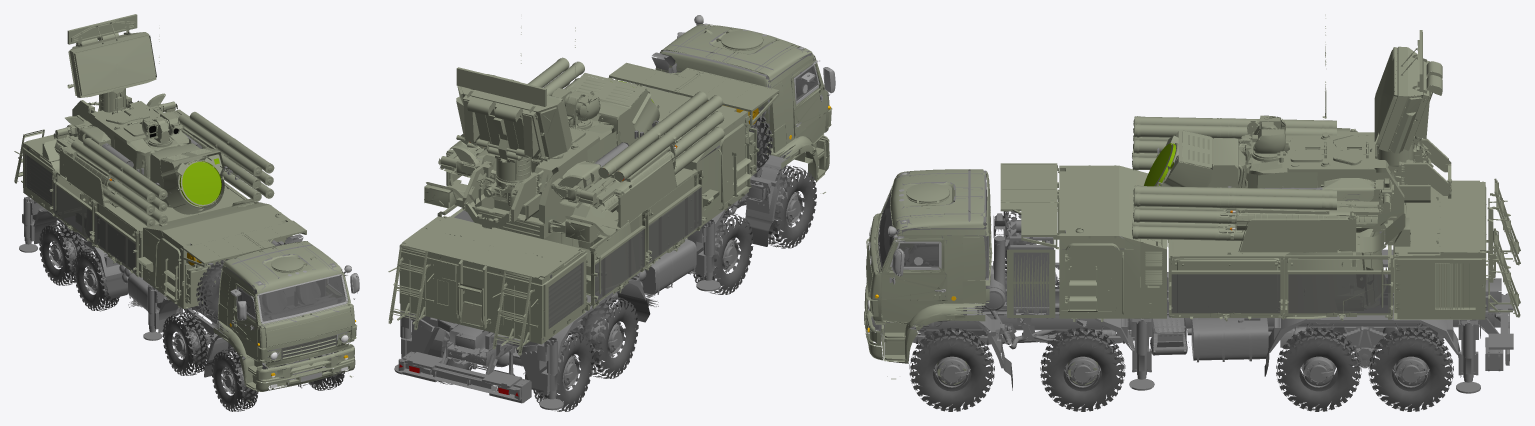
The model's file is pantsir_s1.glb.
The picture shows the model from 3 angles, left to right: view 1: azimuth 30°, elevation 25°; view 2: azimuth 150°, elevation 25°; view 3: azimuth 270°, elevation 25°; orthographic projection. The views are drawn at different scales.
Parts seen in each view (by area): view 1: Body; view 2: Body; view 3: Body.
Boxes of the visible parts, <box> form: Body: <box>14,14,359,411</box>; Body: <box>388,15,835,411</box>; Body: <box>864,14,1520,411</box>.
Bounding box in the file's own units: 3.02 × 5.65 × 9.54.
